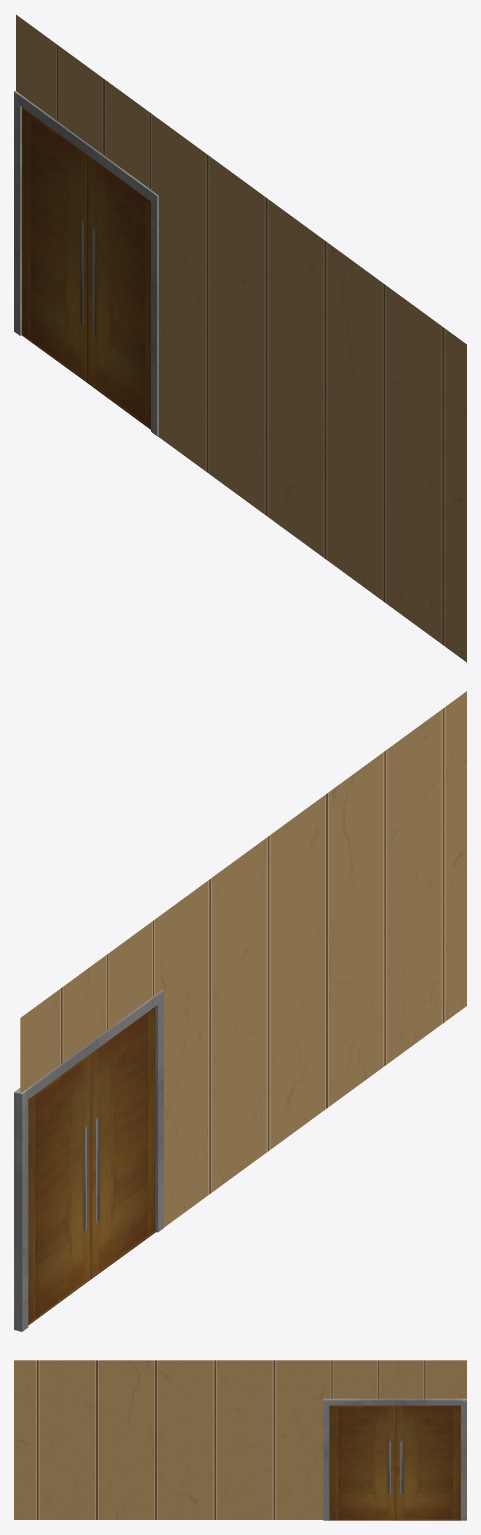
The model's file is Fundo parede amarela.glb.
3 views of the same model, one above another, from view 1: azimuth 30°, elevation 25°; view 2: azimuth 150°, elevation 25°; view 3: azimuth 270°, elevation 25° (orthographic). The views are drawn at different scales.
Parts seen in each view (by area): view 1: Paredes Amarelas, Porta_002, Porta_001, Batente_001; view 2: Paredes Amarelas, Porta_001, Porta_002, Batente_001; view 3: Paredes Amarelas, Porta_001, Porta_002, Batente_001.
Boxes of the visible parts, <box> form: Paredes Amarelas: <box>16,14,466,662</box>; Porta_002: <box>22,107,87,382</box>; Porta_001: <box>87,155,150,429</box>; Batente_001: <box>14,91,158,436</box>; Paredes Amarelas: <box>20,691,466,1227</box>; Porta_001: <box>91,1006,155,1278</box>; Porta_002: <box>28,1054,90,1325</box>; Batente_001: <box>14,990,163,1331</box>; Paredes Amarelas: <box>14,1360,466,1519</box>; Porta_001: <box>329,1405,394,1520</box>; Porta_002: <box>395,1405,460,1520</box>; Batente_001: <box>323,1398,466,1520</box>.
Bounding box in the file's own units: 0.0931 × 3.4 × 8.74.
Materials: 2 (2 with a texture image).
